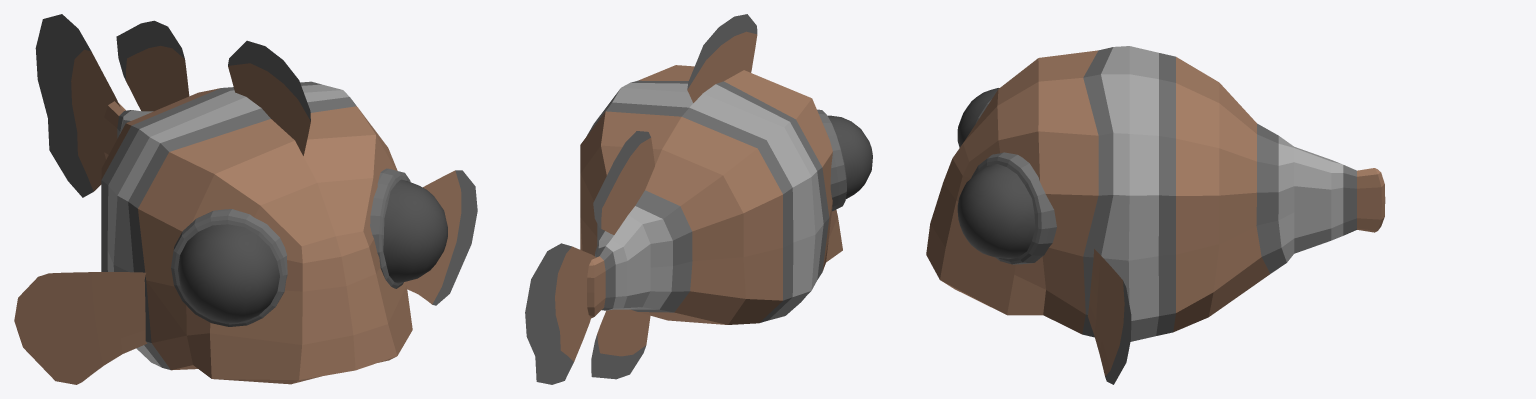
File: clownfish.glb
The picture shows the model from 3 angles, left to right: view 1: azimuth 30°, elevation 25°; view 2: azimuth 150°, elevation 25°; view 3: azimuth 270°, elevation 25°; orthographic projection. The views are drawn at different scales.
Parts seen in each view (by area): view 1: cutefish__Clownfish.glb; view 2: cutefish__Clownfish.glb; view 3: cutefish__Clownfish.glb.
Part boxes in pixels (x1,y1,x2,y2): cutefish__Clownfish.glb: (14, 14, 477, 384); cutefish__Clownfish.glb: (525, 14, 872, 384); cutefish__Clownfish.glb: (926, 46, 1385, 384).
Size of the model in its own units: 4.41 by 3.04 by 5.27.
